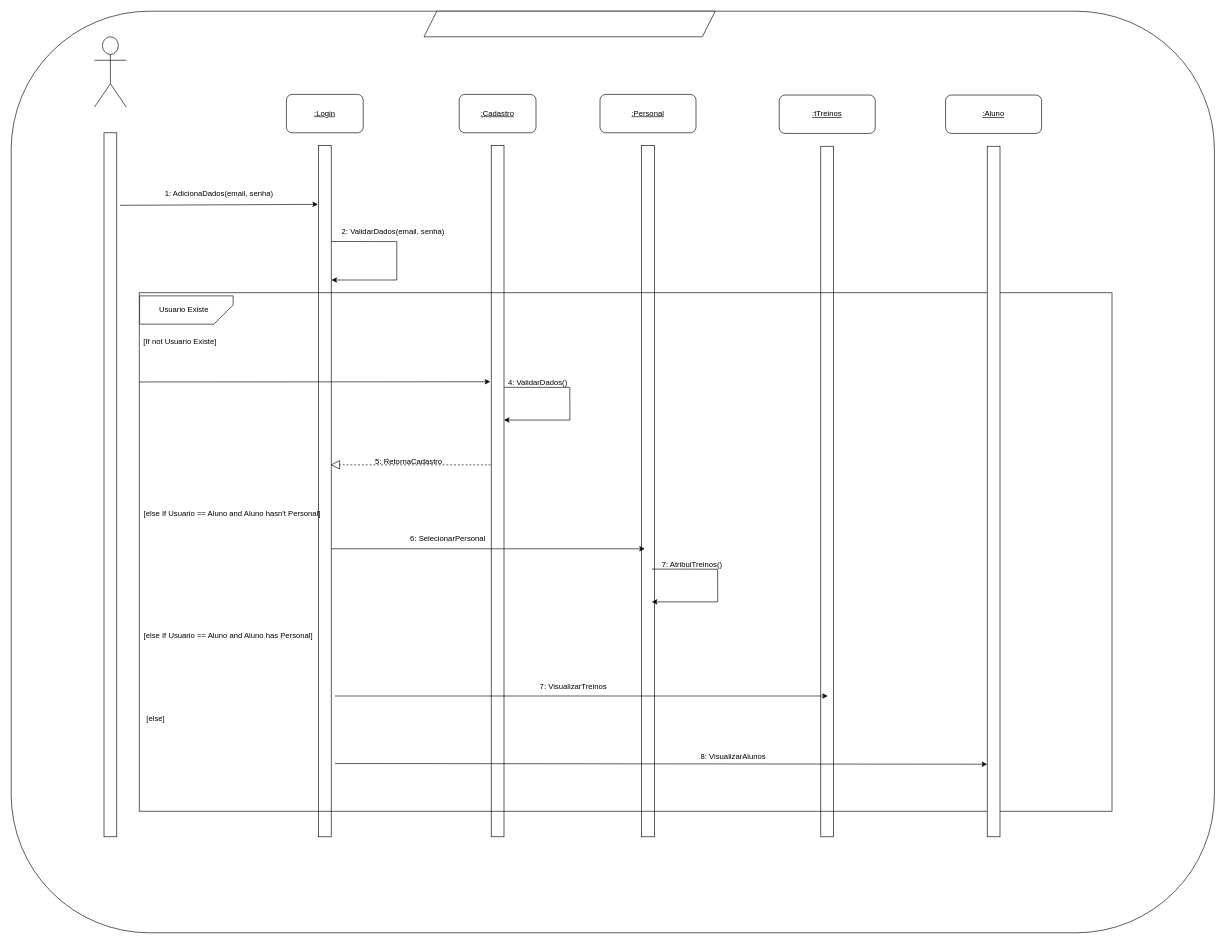
Image size: 1226x944. Some labels were removed from this diagram. The box of each missing label's shape, as (x1, y1, x2, y2) in pixels:
3: AdicionaDados(): (318, 145, 331, 837)
:Usuário: (94, 36, 126, 107)
Diagrama de Sequência - Login: (423, 11, 715, 37)
